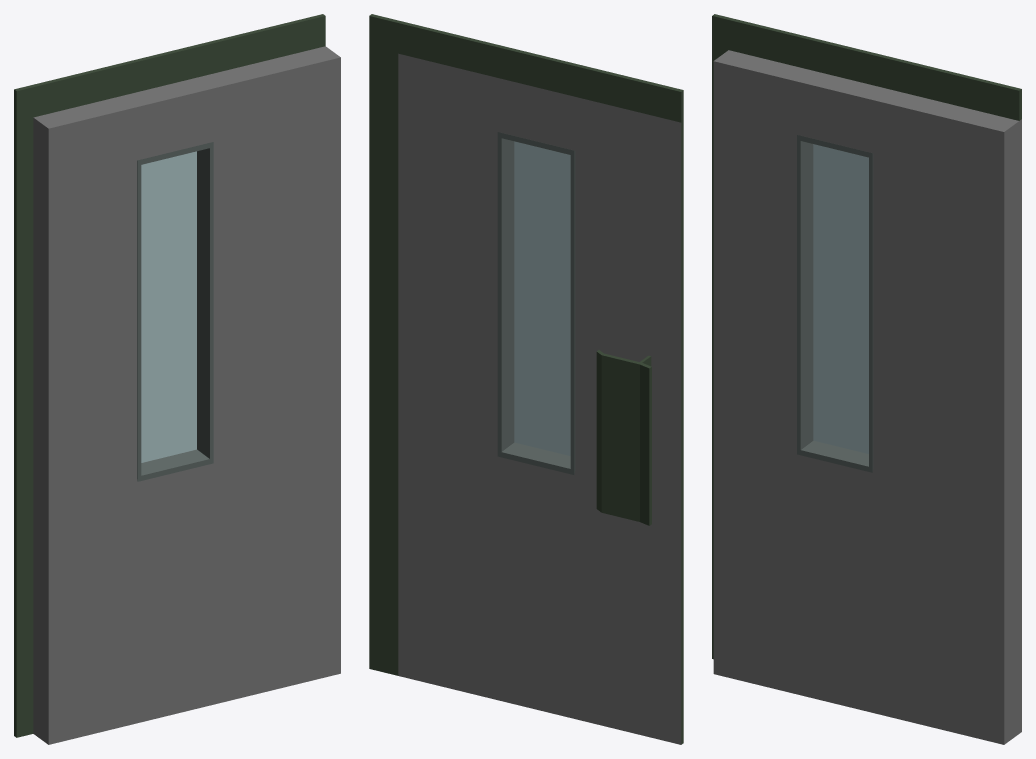
The model's file is porta.fbx.
The picture shows the model from 3 angles, left to right: view 1: azimuth 30°, elevation 25°; view 2: azimuth 150°, elevation 25°; view 3: azimuth 330°, elevation 25°; orthographic projection.
Parts seen in each view (by area): view 1: Porta; view 2: Porta; view 3: Porta.
Boxes of the visible parts, x1,y1,x2,y2 form: Porta: [14, 14, 340, 744]; Porta: [369, 14, 683, 744]; Porta: [712, 14, 1021, 744].
Size of the model in its own units: 100 by 200 by 18.66.
